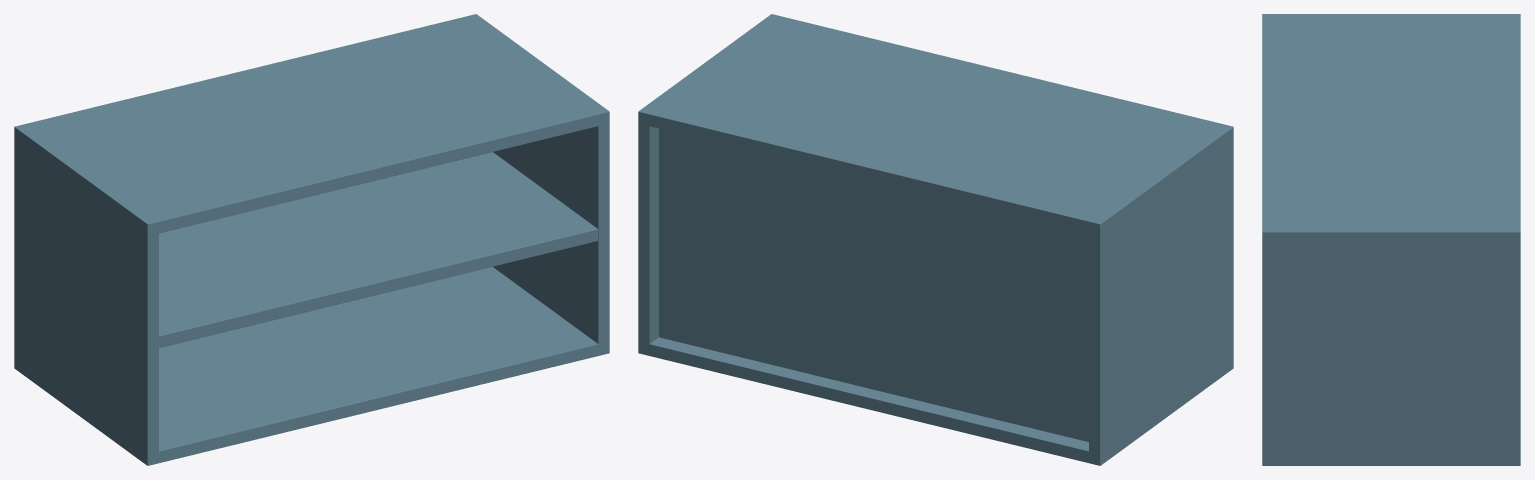
The model's file is MOD-2X1-S-B-AC.glb.
3 views of the same model, side by side, from view 1: azimuth 30°, elevation 25°; view 2: azimuth 150°, elevation 25°; view 3: azimuth 270°, elevation 25° (orthographic). The views are drawn at different scales.
Bounding box in the file's own units: 720 × 360 × 360.
